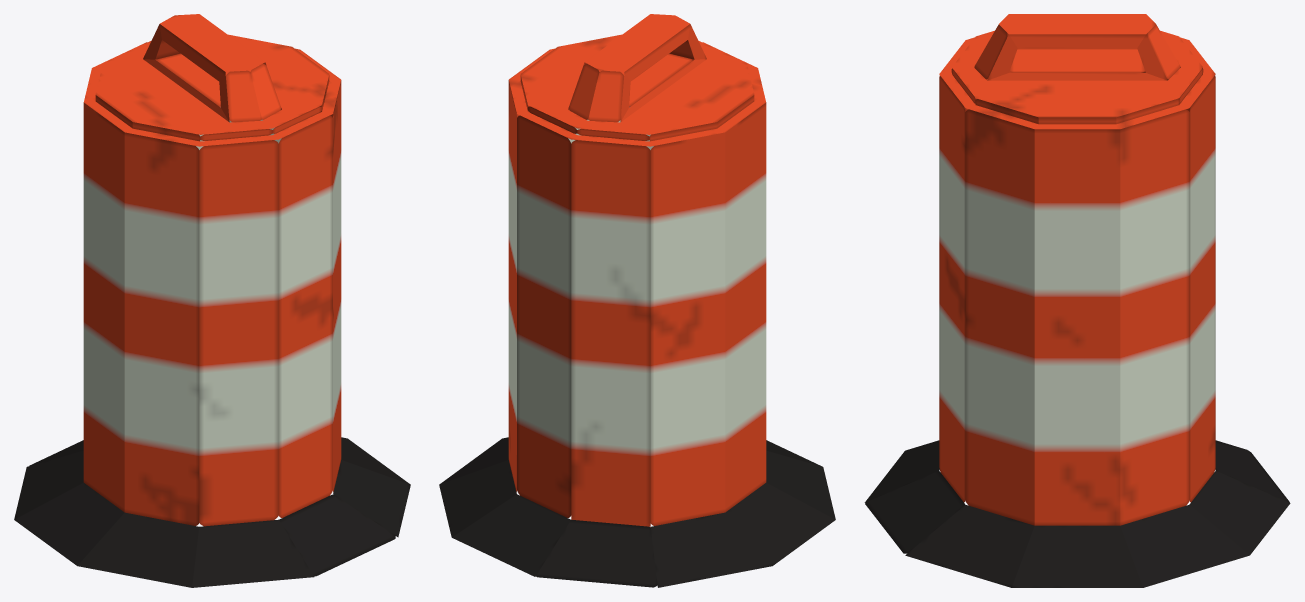
Rendered from Con-Pylon.fbx.
3 views of the same model, side by side, from view 1: azimuth 30°, elevation 25°; view 2: azimuth 150°, elevation 25°; view 3: azimuth 270°, elevation 25° (orthographic). The views are drawn at different scales.
Parts seen in each view (by area): view 1: Con-Pylon; view 2: Con-Pylon; view 3: Con-Pylon.
Boxes of the visible parts, bbox=[...] form: Con-Pylon: bbox=[14, 14, 410, 587]; Con-Pylon: bbox=[439, 14, 835, 587]; Con-Pylon: bbox=[864, 14, 1290, 587].
Bounding box in the file's own units: 132 × 174 × 140.
1 material, 1 textured.
